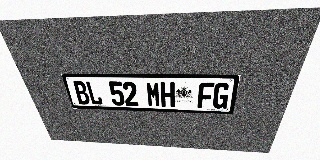2: (122, 81, 138, 106)
5: (108, 81, 125, 106)
B: (72, 81, 91, 105)
F: (197, 82, 215, 108)
G: (212, 83, 231, 109)
H: (160, 82, 175, 107)
L: (85, 81, 103, 105)
M: (146, 82, 161, 107)
